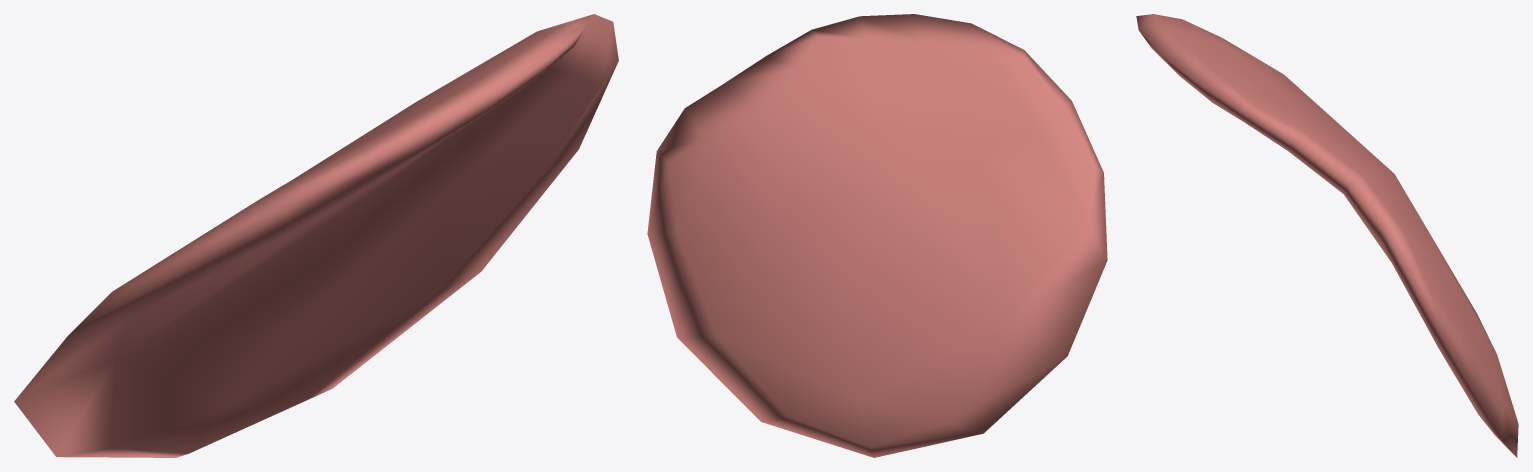
The picture shows the model from 3 angles, left to right: view 1: azimuth 30°, elevation 25°; view 2: azimuth 150°, elevation 25°; view 3: azimuth 270°, elevation 25°; orthographic projection. The views are drawn at different scales.
Parts seen in each view (by area): view 1: ZA_49dd30238939f68e; view 2: ZA_49dd30238939f68e; view 3: ZA_49dd30238939f68e.
Part boxes in pixels (x1,y1,x2,y2): ZA_49dd30238939f68e: [14, 14, 618, 457]; ZA_49dd30238939f68e: [647, 14, 1107, 457]; ZA_49dd30238939f68e: [1136, 14, 1518, 457].
Size of the model in its own units: 0.00721 by 0.00552 by 0.00463.
